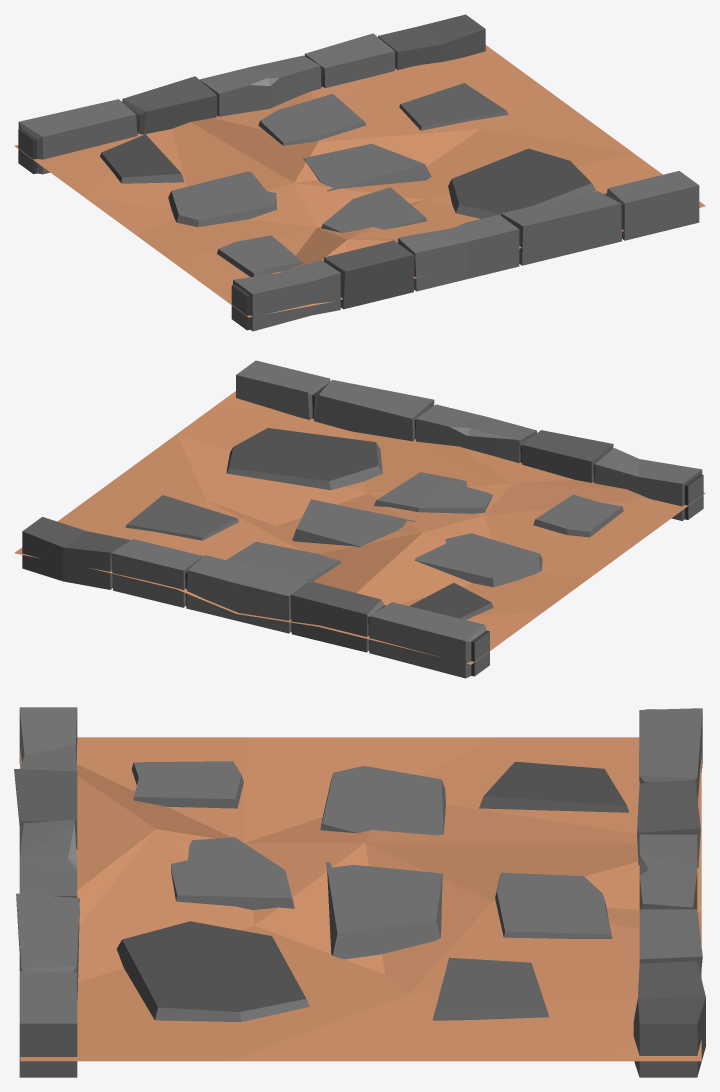
File: Road_02.fbx
The picture shows the model from 3 angles, top to bottom: view 1: azimuth 30°, elevation 25°; view 2: azimuth 150°, elevation 25°; view 3: azimuth 270°, elevation 25°; orthographic projection. The views are drawn at different scales.
Visible parts, largest first — view 1: road_02.001; view 2: road_02.001; view 3: road_02.001.
Boxes of the visible parts, bbox=[...] form: road_02.001: bbox=[14, 14, 705, 331]; road_02.001: bbox=[14, 360, 705, 678]; road_02.001: bbox=[14, 707, 705, 1077].
Size of the model in its own units: 3.77 by 0.3524 by 3.4.
